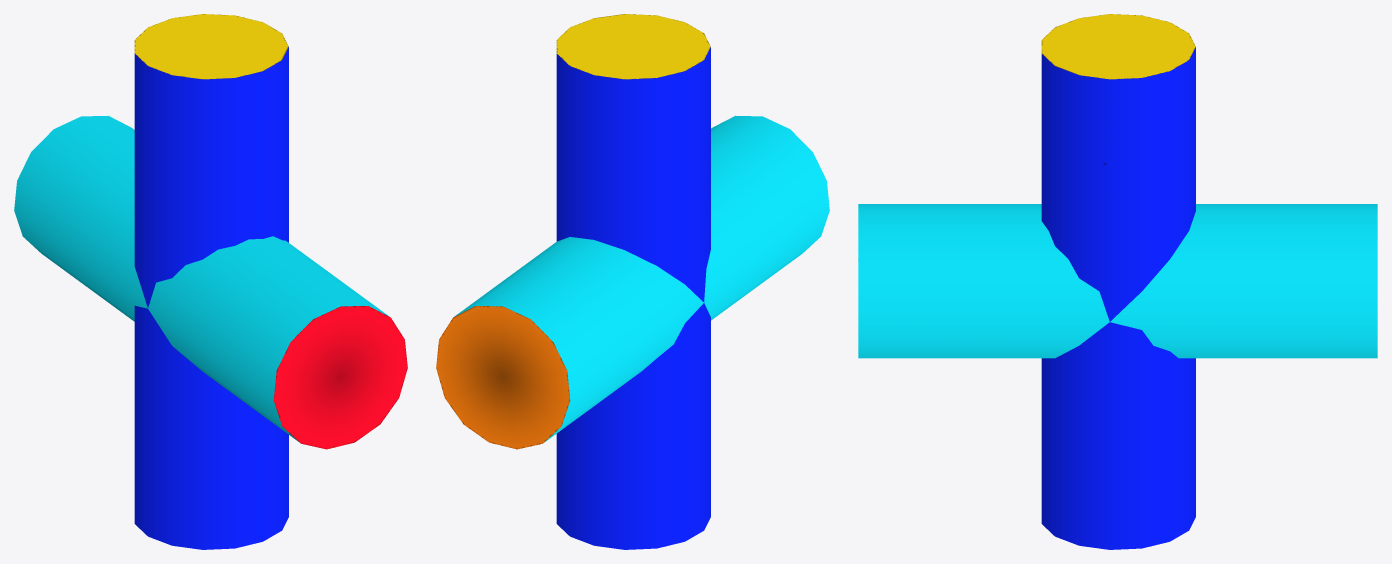
The model's file is pipe_4way.glb.
3 views of the same model, side by side, from view 1: azimuth 30°, elevation 25°; view 2: azimuth 150°, elevation 25°; view 3: azimuth 270°, elevation 25° (orthographic).
Parts seen in each view (by area): view 1: pipe_4way; view 2: pipe_4way; view 3: pipe_4way.
Boxes of the visible parts, x1,y1,x2,y2 form: pipe_4way: [14, 14, 407, 549]; pipe_4way: [436, 14, 829, 549]; pipe_4way: [858, 14, 1377, 549].
Bounding box in the file's own units: 0.5967 × 2 × 2.
1 material, 1 textured.
